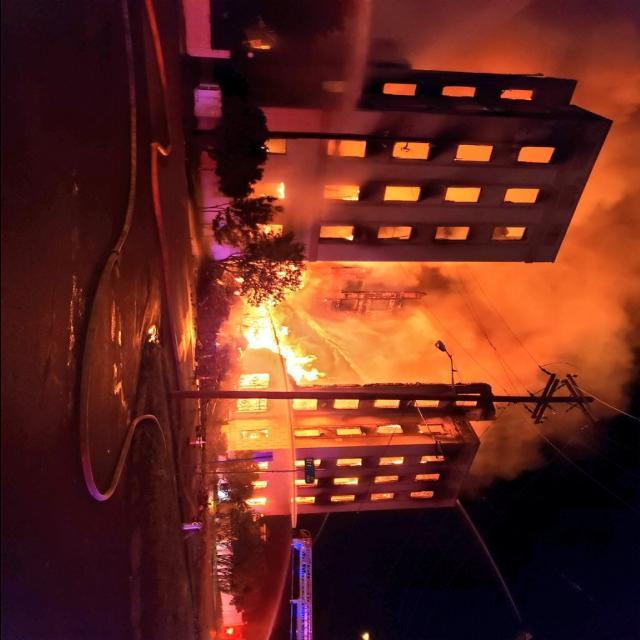Fire: (233, 262, 391, 428)
